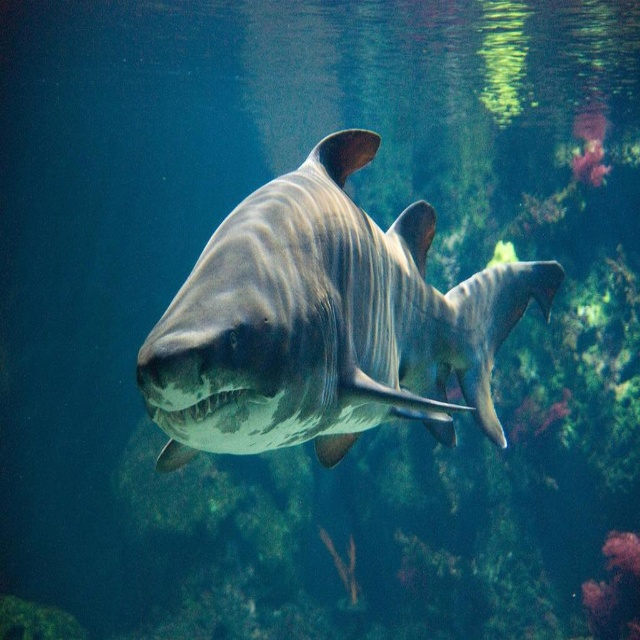Shark: (134, 115, 566, 490)
